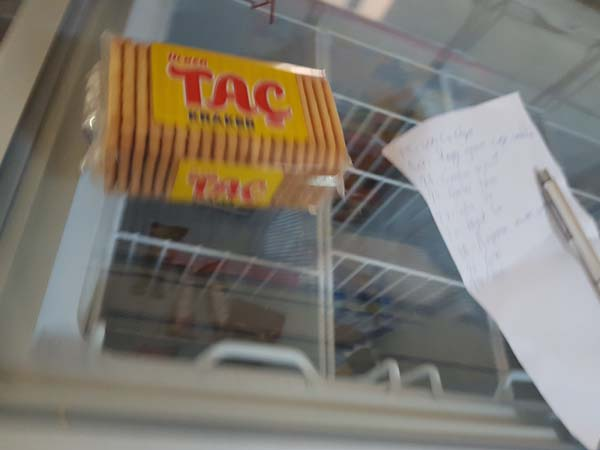tackraker: (76, 26, 357, 217)
